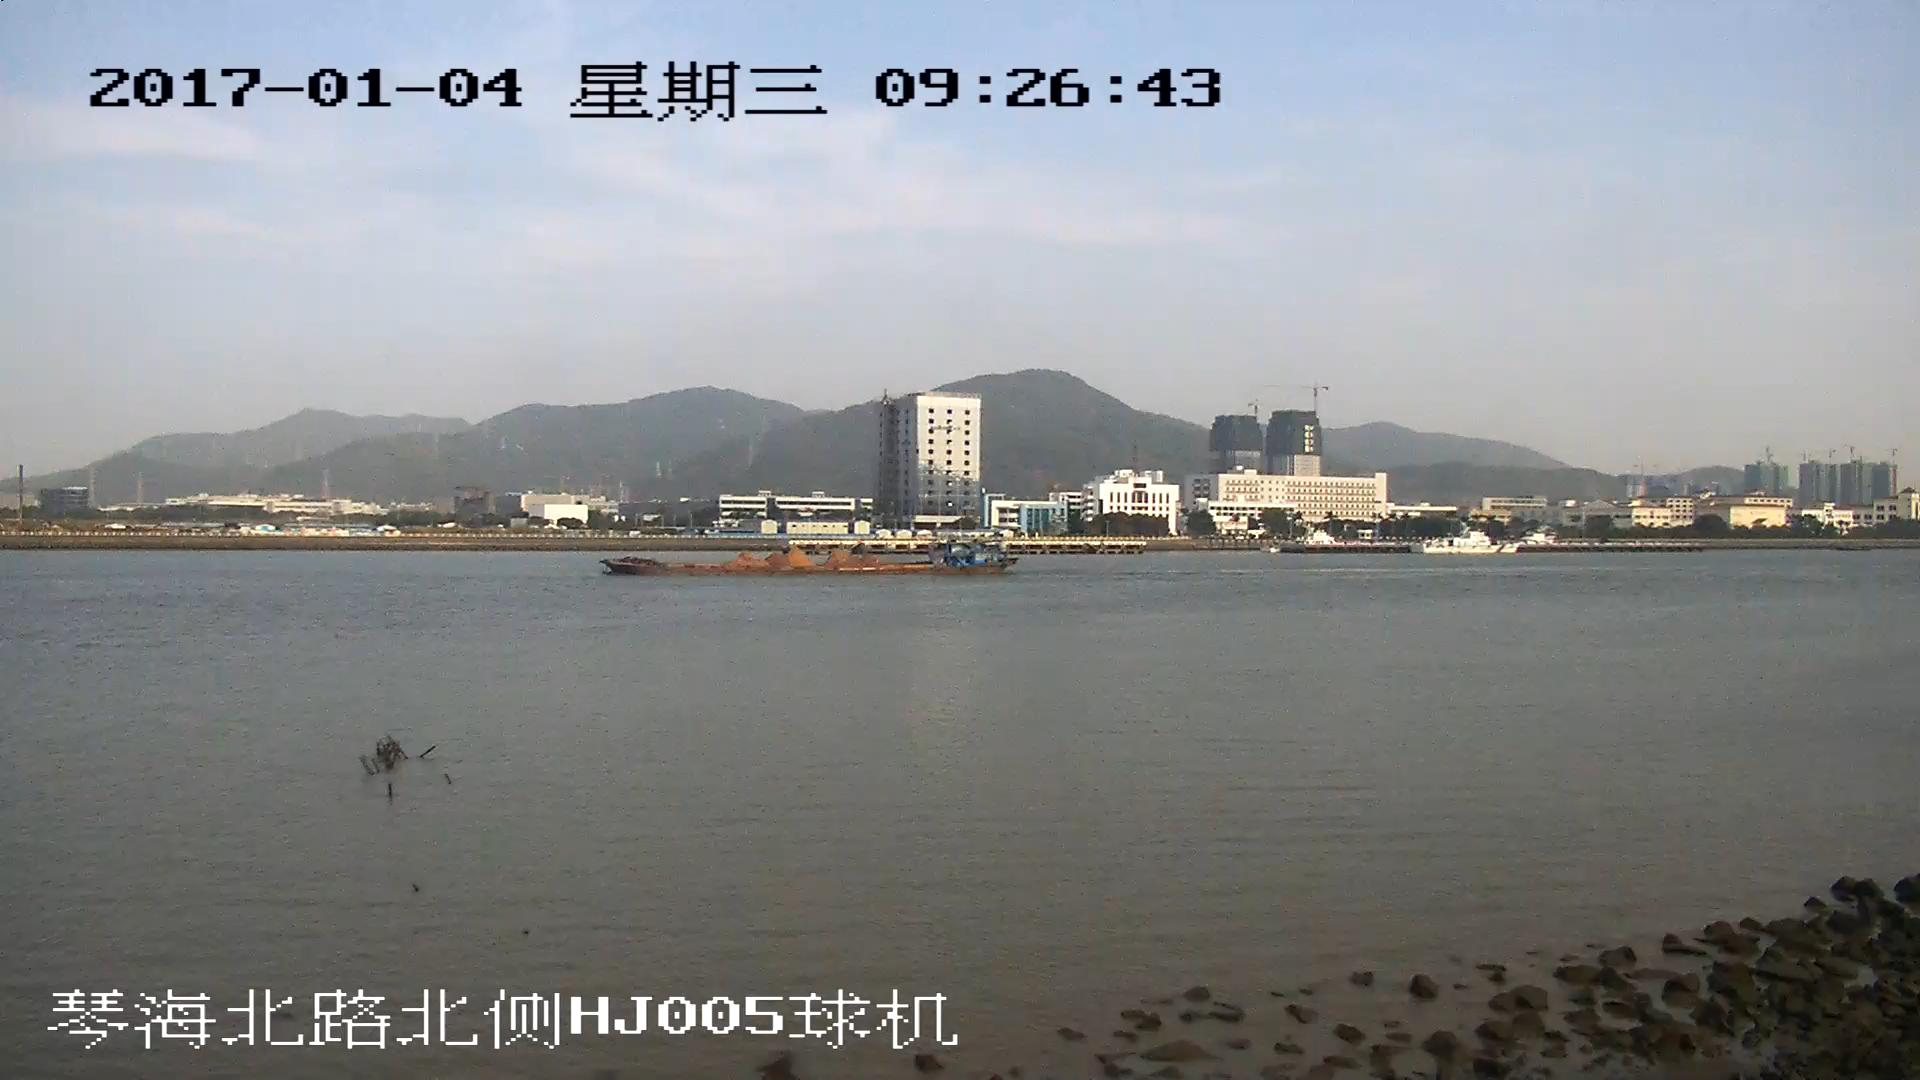ore carrier: (603, 535, 1015, 575)
